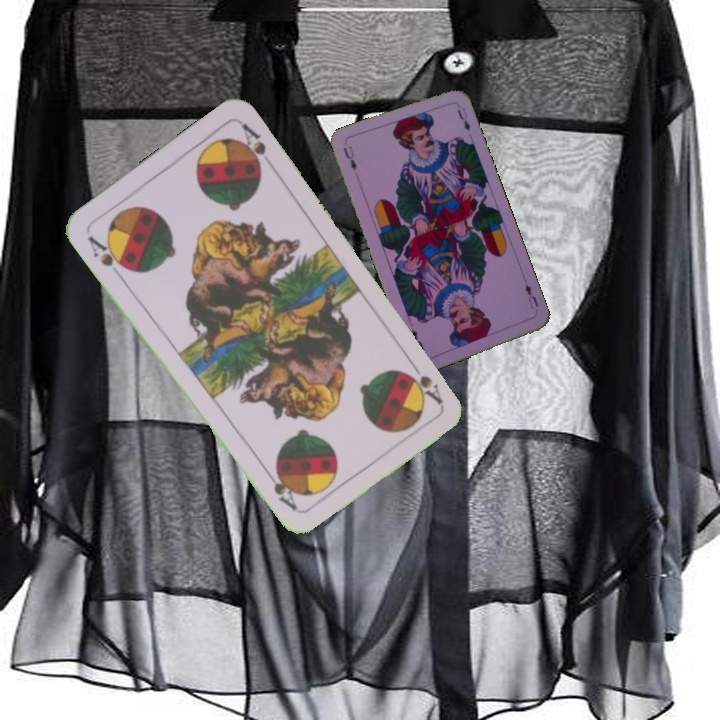EU: (521, 280, 541, 311), (339, 142, 359, 173)
SA: (404, 355, 445, 407), (83, 231, 132, 273)
